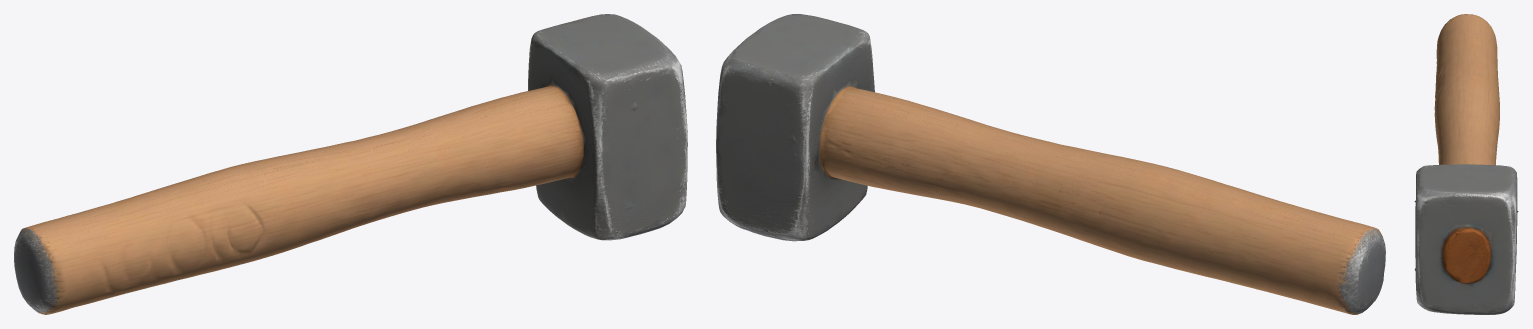
File: new-hammer.fbx
3 renders of one model, left to right at view 1: azimuth 30°, elevation 25°; view 2: azimuth 150°, elevation 25°; view 3: azimuth 270°, elevation 25°, orthographic. The views are drawn at different scales.
Visible parts, largest first — view 1: tripo_node_713c9d94; view 2: tripo_node_713c9d94; view 3: tripo_node_713c9d94.
Part boxes in pixels (x1,y1,x2,y2): tripo_node_713c9d94: (14, 14, 687, 314); tripo_node_713c9d94: (716, 14, 1385, 314); tripo_node_713c9d94: (1414, 14, 1518, 314).
Bounding box in the file's own units: 0.9991 × 0.2614 × 0.1994.
Materials: 1 (1 with a texture image).
